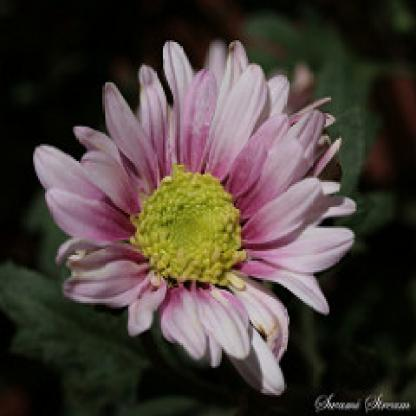ASTER: (20, 24, 374, 373)
